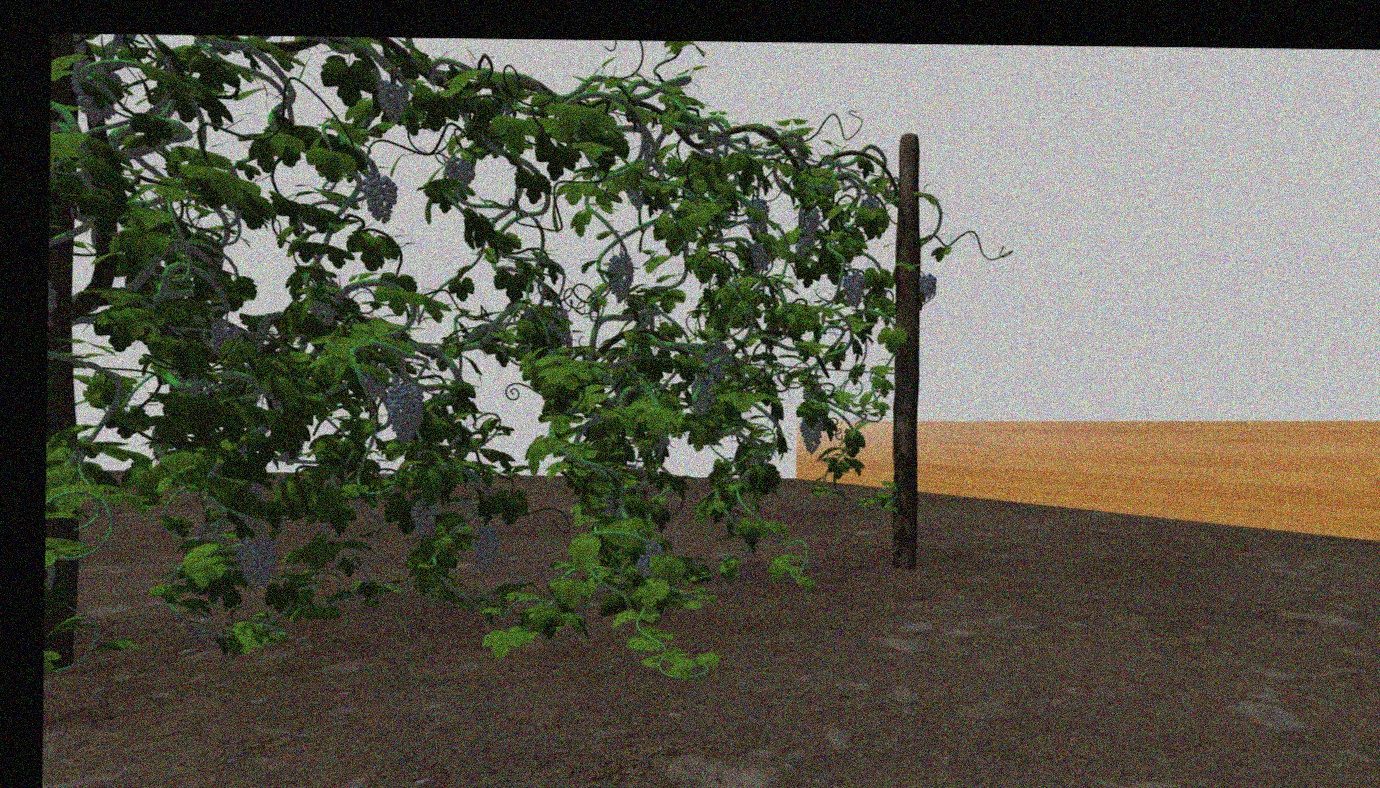grape: (69, 59, 123, 125), (384, 381, 426, 445), (235, 533, 278, 591), (361, 171, 398, 224), (468, 522, 501, 574), (604, 251, 635, 304), (409, 498, 443, 538), (375, 78, 405, 123), (636, 541, 664, 581), (841, 269, 866, 310), (798, 415, 823, 455), (690, 377, 716, 414), (444, 157, 475, 186), (705, 345, 731, 378), (797, 203, 821, 233), (749, 242, 771, 272), (917, 272, 938, 298), (793, 234, 814, 259)
